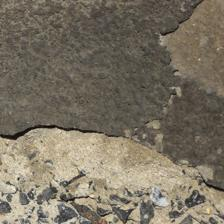Crack: (35, 162, 190, 214), (186, 14, 224, 114)
